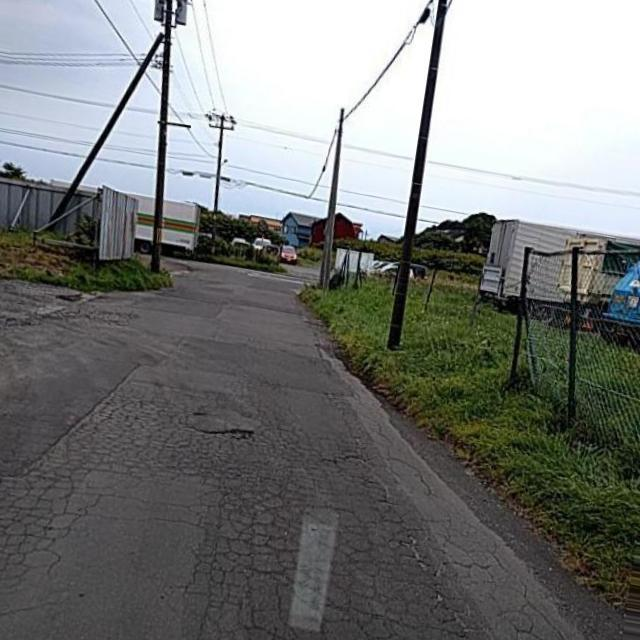Retak Buaya: (0, 378, 478, 638)
